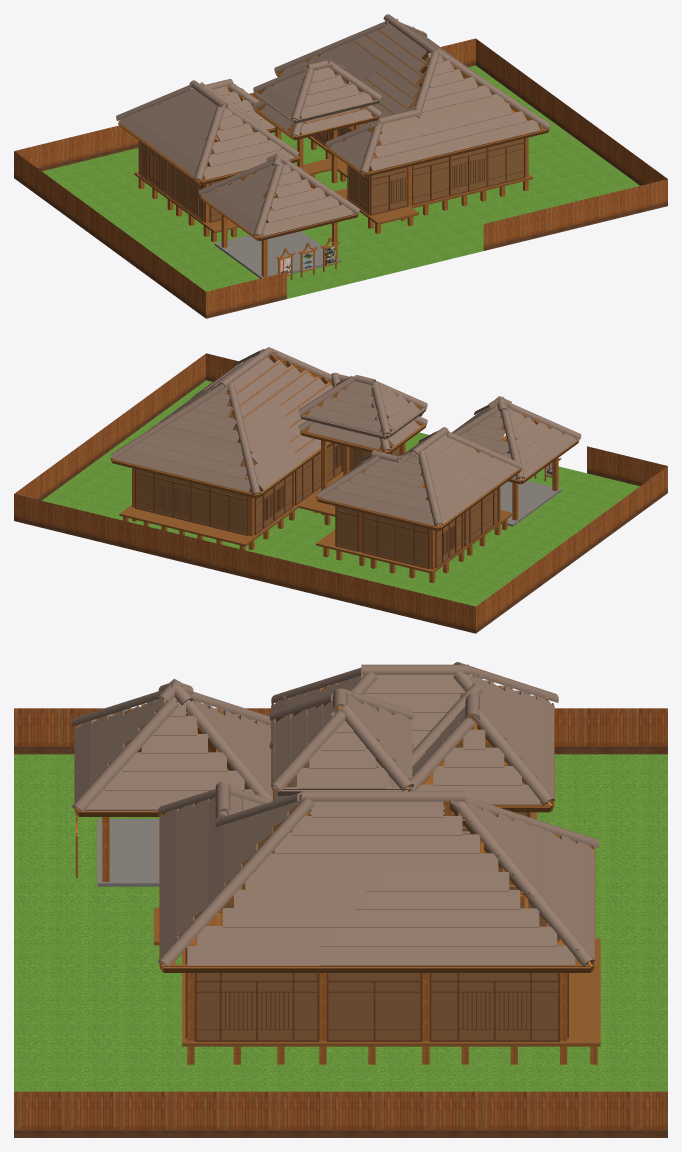
File: ACT 3-4.obj
3 views of the same model, one above another, from view 1: azimuth 30°, elevation 25°; view 2: azimuth 150°, elevation 25°; view 3: azimuth 270°, elevation 25° (orthographic). The views are drawn at different scales.
Visible parts, largest first — view 1: Mesh876 Group1022 Model, Mesh1737 Component_14_1 Model, Mesh1728 Group2089 Group2082 Component_4_1 Model, Mesh875 Group1021 Model, Mesh923 Group1081 Component_10_1 Model, Mesh1729 Group2090 Group2082 Component_4_1 Model, Mesh1734 Group2096 Group2092 Component_4_1 Model, Mesh413 Group479 Group478 Group477 Group58 Group57 Group2 Model, Mesh1553 Group1887 Group1883 Component_12_1 Model, Mesh1735 Group2097 Group2092 Component_4_1 Model, Mesh417 Group485 Group484 Group477 Group58 Group57 Group2 Model, Mesh2 Group5 Group4 Group3 Group2 Model (+9 smaller); view 2: Mesh1737 Component_14_1 Model, Mesh876 Group1022 Model, Mesh1726 Group2087 Group2082 Component_4_1 Model, Mesh923 Group1081 Component_10_1 Model, Mesh1732 Group2094 Group2092 Component_4_1 Model, Mesh875 Group1021 Model, Mesh1724 Group2085 Group2082 Component_4_1 Model, Mesh417 Group485 Group484 Group477 Group58 Group57 Group2 Model, Mesh1734 Group2096 Group2092 Component_4_1 Model, Mesh418 Group486 Group484 Group477 Group58 Group57 Group2 Model, Mesh1729 Group2090 Group2082 Component_4_1 Model, Mesh873 Group1019 Model (+12 smaller); view 3: Mesh876 Group1022 Model, Mesh1737 Component_14_1 Model, Mesh1725 Group2086 Group2082 Component_4_1 Model, Mesh1722 Group2083 Group2082 Component_4_1 Model, Mesh1723 Group2084 Group2082 Component_4_1 Model, Mesh923 Group1081 Component_10_1 Model, Mesh875 Group1021 Model, Mesh413 Group479 Group478 Group477 Group58 Group57 Group2 Model, Mesh418 Group486 Group484 Group477 Group58 Group57 Group2 Model, Mesh1551 Group1885 Group1883 Component_12_1 Model, Mesh38 Group51 Group47 Group17 Group2 Model, Mesh416 Group483 Group481 Group477 Group58 Group57 Group2 Model (+14 smaller).
Boxes of the visible parts, x1,y1,x2,y2 form: Mesh876 Group1022 Model: (42, 65, 639, 298); Mesh1737 Component_14_1 Model: (14, 38, 667, 318); Mesh1728 Group2089 Group2082 Component_4_1 Model: (413, 138, 523, 203); Mesh875 Group1021 Model: (214, 231, 340, 278); Mesh923 Group1081 Component_10_1 Model: (134, 123, 532, 233); Mesh1729 Group2090 Group2082 Component_4_1 Model: (348, 153, 407, 214); Mesh1734 Group2096 Group2092 Component_4_1 Model: (170, 163, 202, 219); Mesh413 Group479 Group478 Group477 Group58 Group57 Group2 Model: (437, 48, 550, 129); Mesh1553 Group1887 Group1883 Component_12_1 Model: (365, 129, 548, 177); Mesh1735 Group2097 Group2092 Component_4_1 Model: (141, 142, 166, 192); Mesh417 Group485 Group484 Group477 Group58 Group57 Group2 Model: (274, 21, 387, 72); Mesh2 Group5 Group4 Group3 Group2 Model: (194, 106, 224, 181); Mesh1737 Component_14_1 Model: (14, 353, 667, 633); Mesh876 Group1022 Model: (42, 380, 639, 606); Mesh1726 Group2087 Group2082 Component_4_1 Model: (136, 469, 247, 534); Mesh923 Group1081 Component_10_1 Model: (119, 472, 512, 573); Mesh1732 Group2094 Group2092 Component_4_1 Model: (364, 513, 427, 567); Mesh875 Group1021 Model: (500, 480, 561, 526); Mesh1724 Group2085 Group2082 Component_4_1 Model: (256, 474, 292, 532); Mesh417 Group485 Group484 Group477 Group58 Group57 Group2 Model: (227, 385, 260, 495); Mesh1734 Group2096 Group2092 Component_4_1 Model: (466, 489, 497, 544); Mesh418 Group486 Group484 Group477 Group58 Group57 Group2 Model: (111, 384, 228, 458); Mesh1729 Group2090 Group2082 Component_4_1 Model: (327, 441, 399, 480); Mesh873 Group1019 Model: (337, 506, 357, 549); Mesh876 Group1022 Model: (14, 754, 667, 1091); Mesh1737 Component_14_1 Model: (14, 708, 667, 1137); Mesh1725 Group2086 Group2082 Component_4_1 Model: (431, 973, 557, 1039); Mesh1722 Group2083 Group2082 Component_4_1 Model: (196, 973, 317, 1039); Mesh1723 Group2084 Group2082 Component_4_1 Model: (328, 973, 420, 1039); Mesh923 Group1081 Component_10_1 Model: (154, 812, 600, 1046); Mesh875 Group1021 Model: (97, 819, 159, 886); Mesh413 Group479 Group478 Group477 Group58 Group57 Group2 Model: (158, 797, 314, 967); Mesh418 Group486 Group484 Group477 Group58 Group57 Group2 Model: (449, 801, 594, 966); Mesh1551 Group1885 Group1883 Component_12_1 Model: (163, 967, 590, 972); Mesh38 Group51 Group47 Group17 Group2 Model: (72, 699, 178, 812); Mesh416 Group483 Group481 Group477 Group58 Group57 Group2 Model: (302, 791, 465, 801).
Bounding box in the file's own units: 24.73 × 6.92 × 17.82.
